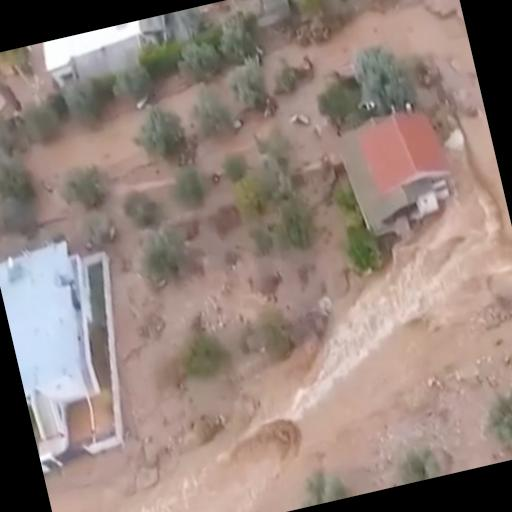house: (0, 220, 154, 468), (332, 96, 462, 246), (26, 14, 182, 104)
